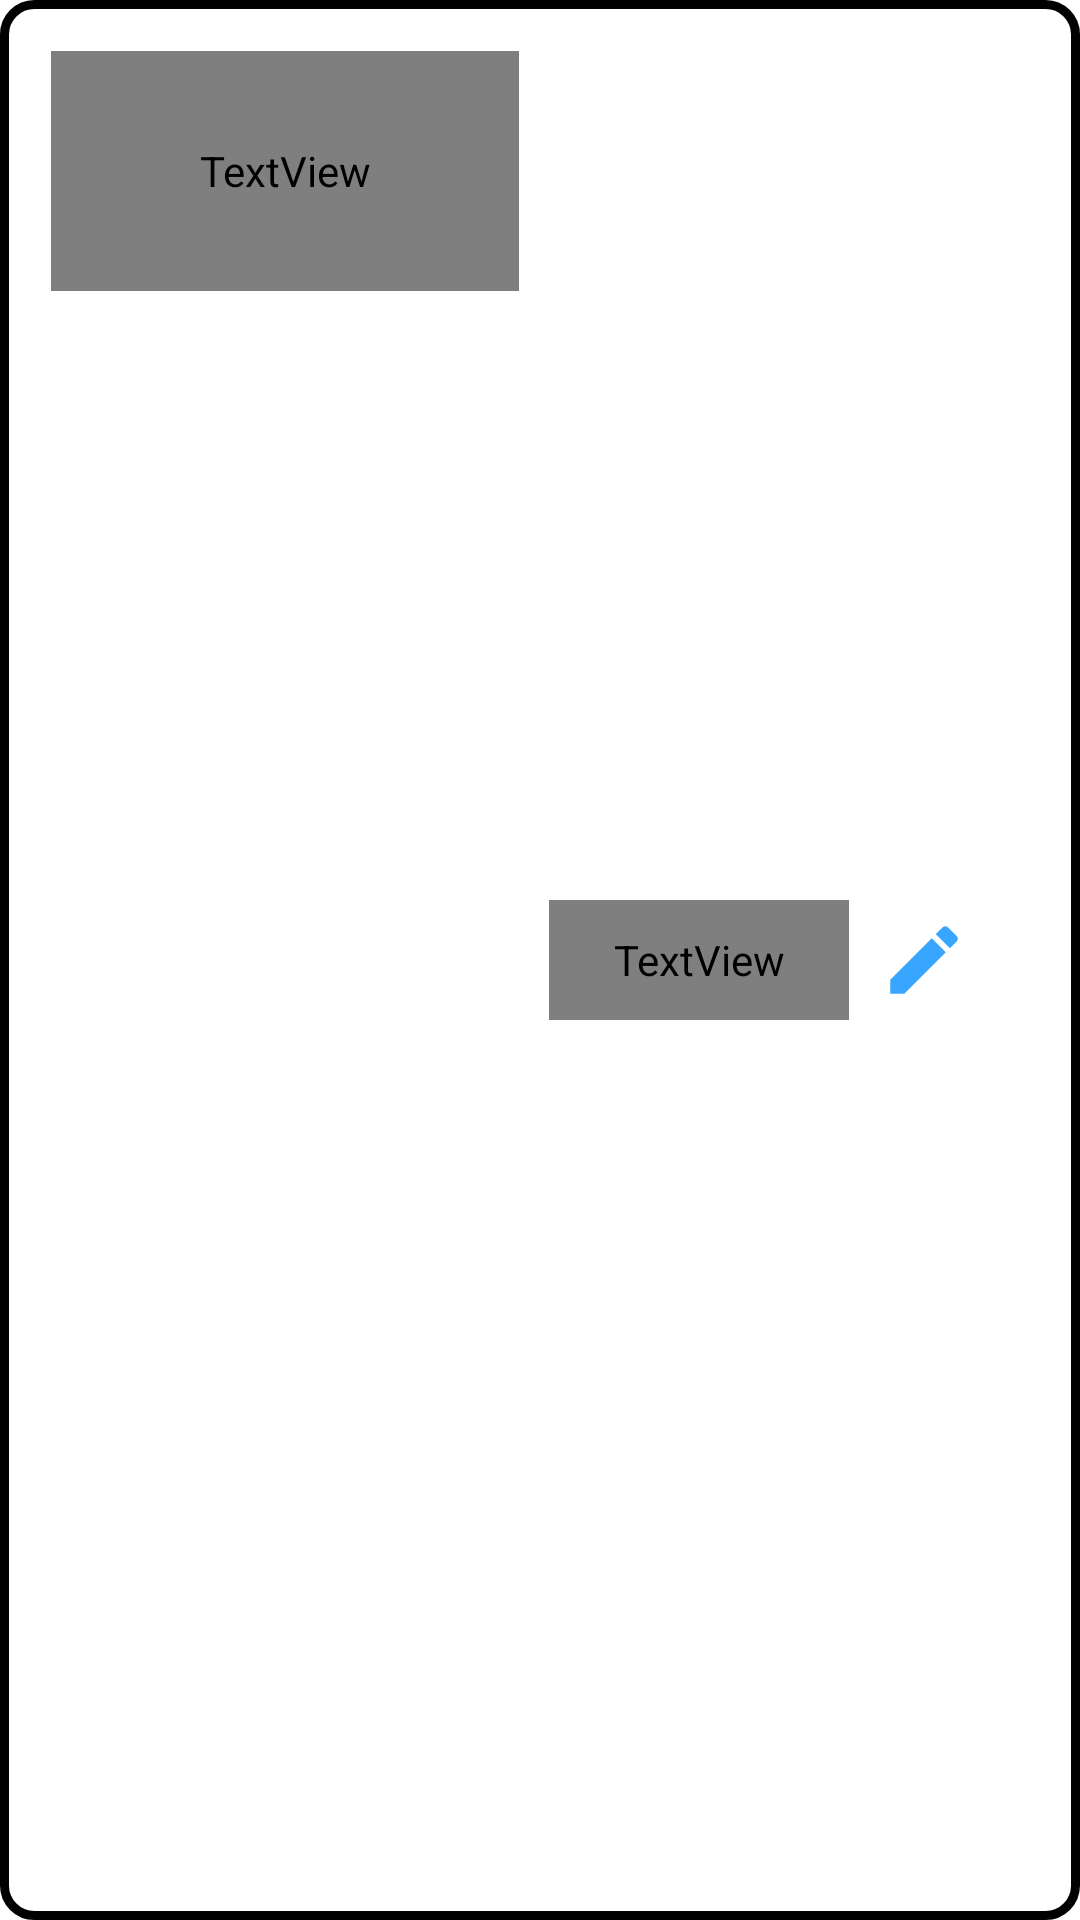

Icon bounding boxes for this 1080px x 1920px phone screenshot, format (x1, y1, x2, y2):
mode edit: (890, 926, 958, 994)
